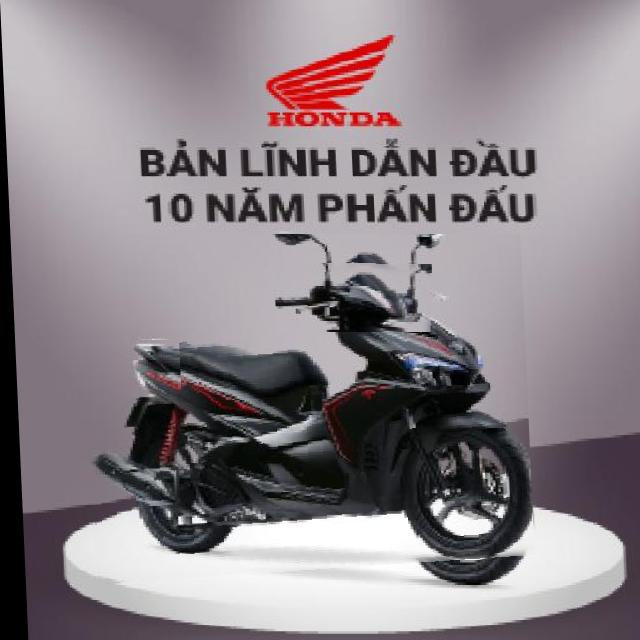All: (75, 234, 530, 584)
Head: (271, 262, 432, 332)
Tail: (119, 340, 178, 394)
